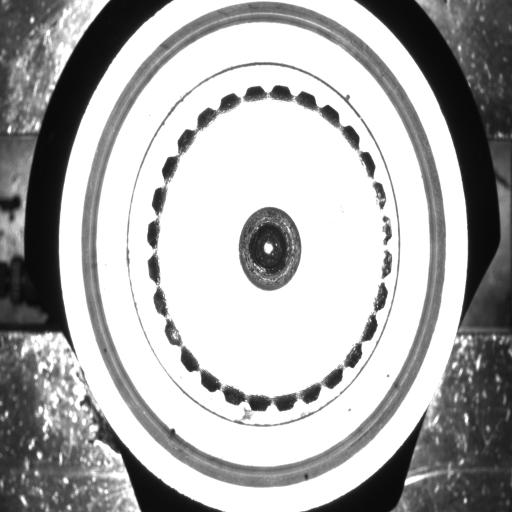gear: (143, 81, 396, 415)
